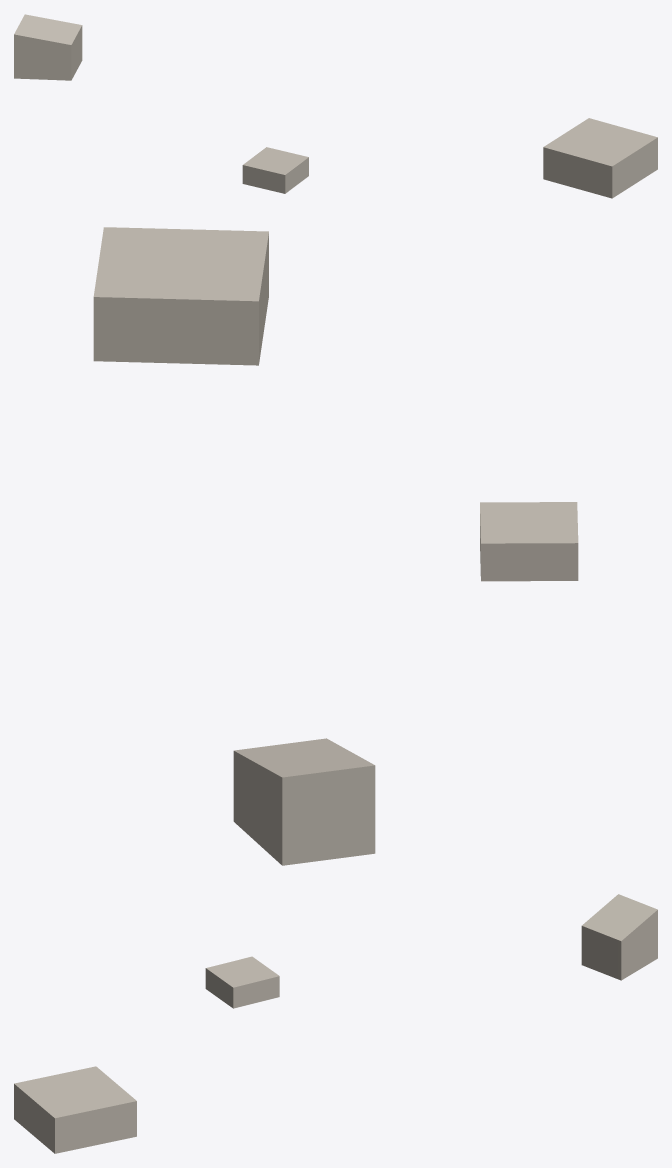
File: Rocks_Square_s_04.fbx
3 views of the same model, one above another, from view 1: azimuth 30°, elevation 25°; view 2: azimuth 150°, elevation 25°; view 3: azimuth 270°, elevation 25° (orthographic). The views are drawn at different scales.
Visible parts, largest first — view 1: Rocks_Square_s_04; view 2: Rocks_Square_s_04; view 3: Rocks_Square_s_04.
Part boxes in pixels (left/top/right/bottom): Rocks_Square_s_04: left=14, top=14, right=657, bottom=198; Rocks_Square_s_04: left=93, top=227, right=578, bottom=865; Rocks_Square_s_04: left=14, top=894, right=657, bottom=1153.
Size of the model in its own units: 59.9 by 6.48 by 77.28.
